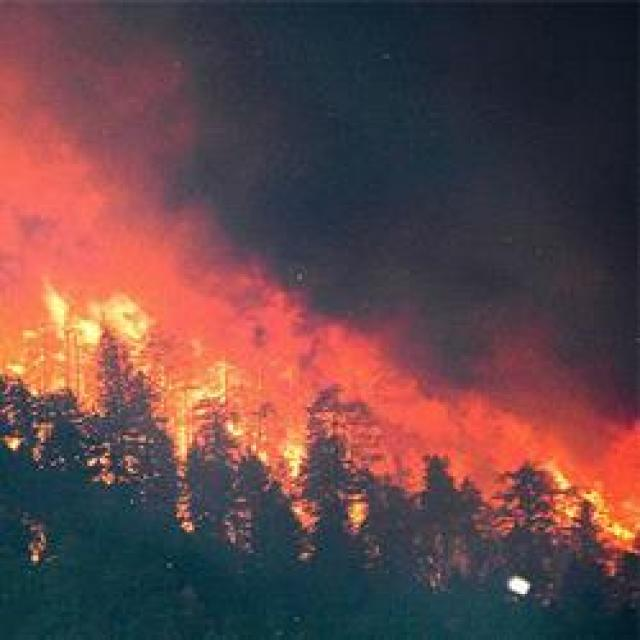fire: (0, 248, 640, 590)
